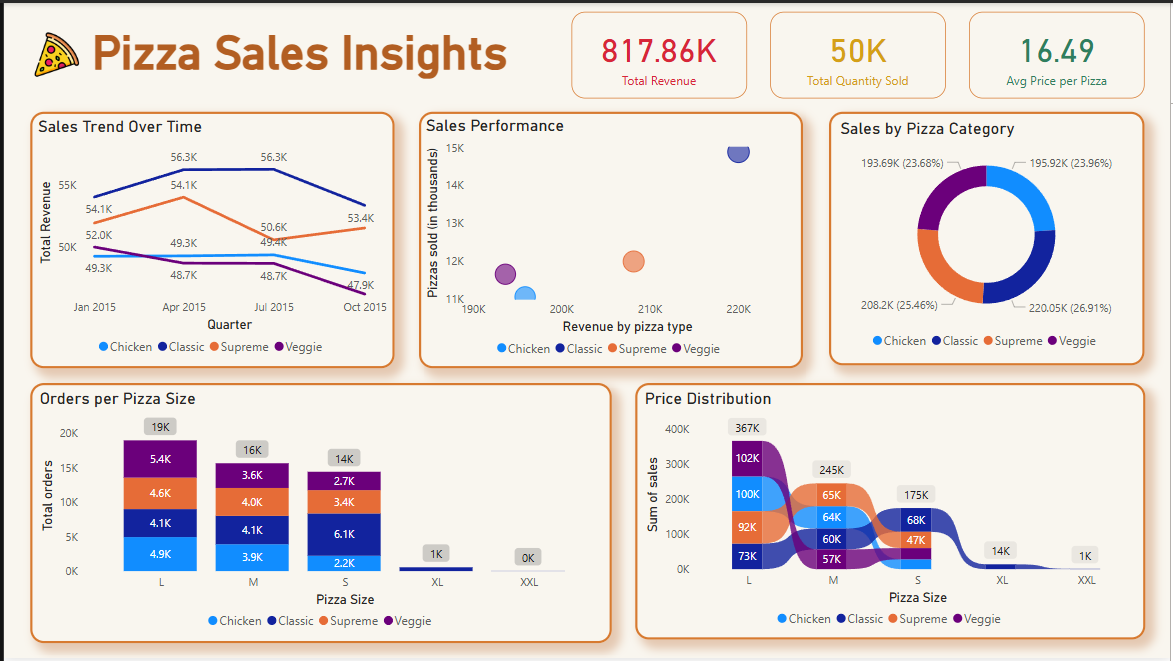

What the dashboard file says about the page in this screenshot:
{"tool":"powerbi","page":{"name":"Insight 1","canvas":[1280,720],"ordinal":0},"visuals":[{"type":"scatterChart","title":"Sales Performance","fields":{"X":["Sum(pizza_sales.total_price)"],"Y":["Sum(pizza_sales.quantity)"],"Series":["pizza_sales.pizza_category"],"Size":["Sum(pizza_sales.unit_price)"]},"box":[456.2,118.8,421.2,281.2],"z":0},{"type":"lineChart","title":"Sales Trend Over Time","fields":{"Category":["pizza_sales.order_date.Variation.Date Hierarchy.Year","pizza_sales.order_date.Variation.Date Hierarchy.Quarter","pizza_sales.order_date.Variation.Date Hierarchy.Month","pizza_sales.order_date.Variation.Date Hierarchy.Day"],"Y":["Sum(pizza_sales.total_price)"],"Series":["pizza_sales.pizza_category"]},"box":[28.8,118.8,400,281.2],"z":1000},{"type":"donutChart","title":"Sales by Pizza Category","fields":{"Y":["Sum(pizza_sales.total_price)"],"Series":["pizza_sales.pizza_category"]},"box":[906.2,118.8,346.2,278.8],"z":2000},{"type":"ribbonChart","title":"Price Distribution","fields":{"Category":["pizza_sales.pizza_size"],"Y":["Sum(pizza_sales.unit_price)"],"Series":["pizza_sales.pizza_category"]},"box":[693,417.2,559.9,281.3],"z":3000},{"type":"columnChart","title":"Orders per Pizza Size","fields":{"Category":["pizza_sales.pizza_size"],"Y":["Sum(pizza_sales.quantity)"],"Series":["pizza_sales.pizza_category"]},"box":[28.8,417.2,638.1,285.4],"z":4000},{"type":"card","fields":{"Values":["Sum(pizza_sales.total_price)"]},"box":[622.5,10,192.5,95],"z":5000},{"type":"card","fields":{"Values":["Sum(pizza_sales.quantity)"]},"box":[841.2,10,192.5,95],"z":6000},{"type":"card","fields":{"Values":["Avg(pizza_sales.unit_price)"]},"box":[1060,10,192.5,95],"z":7000},{"type":"textbox","title":"Pizza Sales Insights","box":[92,24.7,468.7,64.7],"z":8000},{"type":"image","box":[28.9,27.8,58.5,58.9],"z":9000}]}

Visuals, with their boxes in screenshot pixels (x1, y1, x2, y2), scaled from the page's 1280x720 canvas onto the 1173x661 screenshot:
"Sales Performance" scatterChart: <bbox>418, 109, 804, 367</bbox>
"Sales Trend Over Time" lineChart: <bbox>26, 109, 393, 367</bbox>
"Sales by Pizza Category" donutChart: <bbox>830, 109, 1148, 365</bbox>
"Price Distribution" ribbonChart: <bbox>635, 383, 1148, 641</bbox>
"Orders per Pizza Size" columnChart: <bbox>26, 383, 611, 645</bbox>
card - Sum(pizza_sales.total_price): <bbox>570, 9, 747, 96</bbox>
card - Sum(pizza_sales.quantity): <bbox>771, 9, 947, 96</bbox>
card - Avg(pizza_sales.unit_price): <bbox>971, 9, 1148, 96</bbox>
"Pizza Sales Insights" textbox: <bbox>84, 23, 514, 82</bbox>
image: <bbox>26, 26, 80, 80</bbox>
